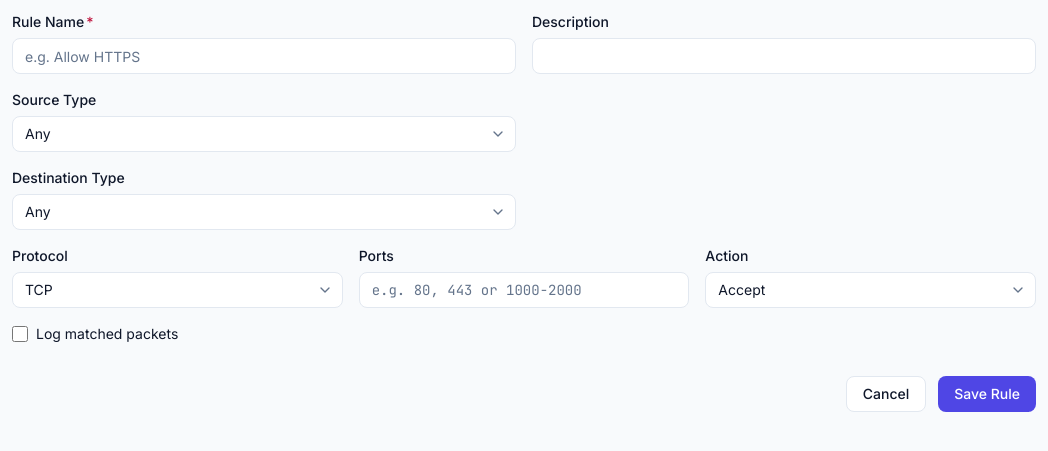
Test case: Forms — react-hook-form + zod validation › FirewallRuleForm blocks submit and shows an error for an invalid source IP
Type "Block SMB" into the field labelled "Rule Name". click: point(264, 56)
box: [12,38,516,74]
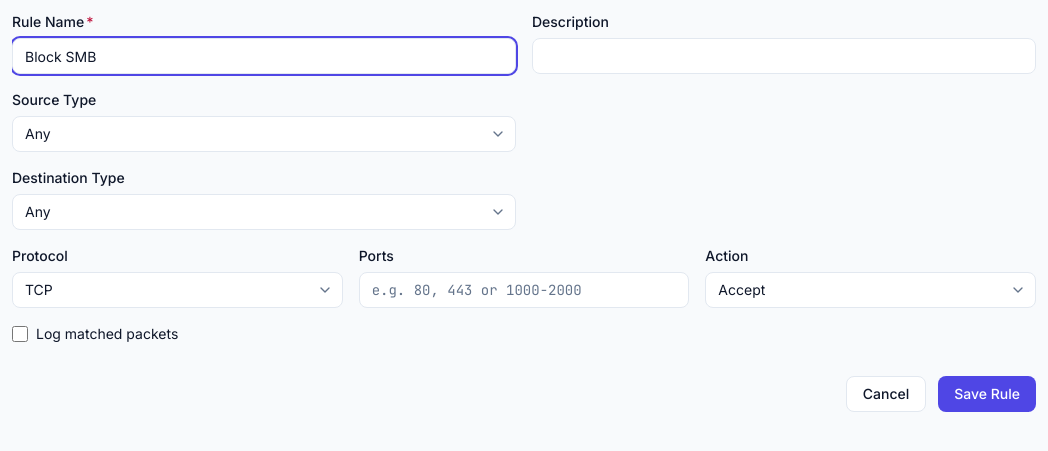
Select "IP Address" in the dropdown labelled "Source Type". click: point(264, 134)
box: [12,116,516,152]
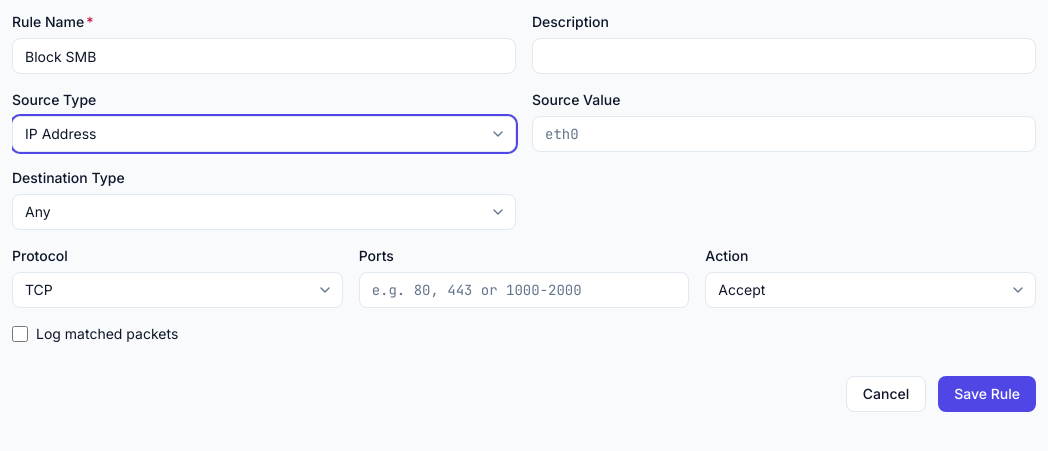
Type "not-an-ip" into the field labelled "Source Value". click: point(784, 134)
box: [532,116,1036,152]
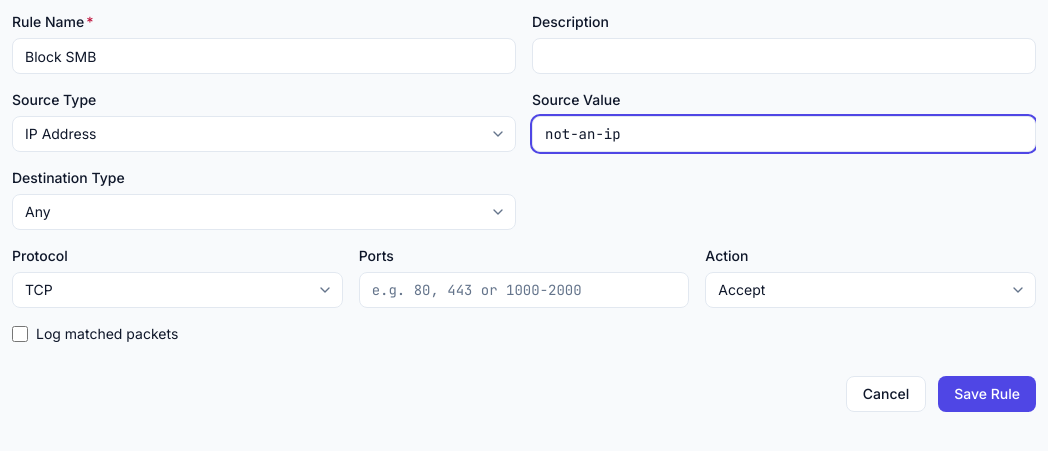
Click the button "Save Rule". click: point(987, 394)
box: [938,376,1036,412]
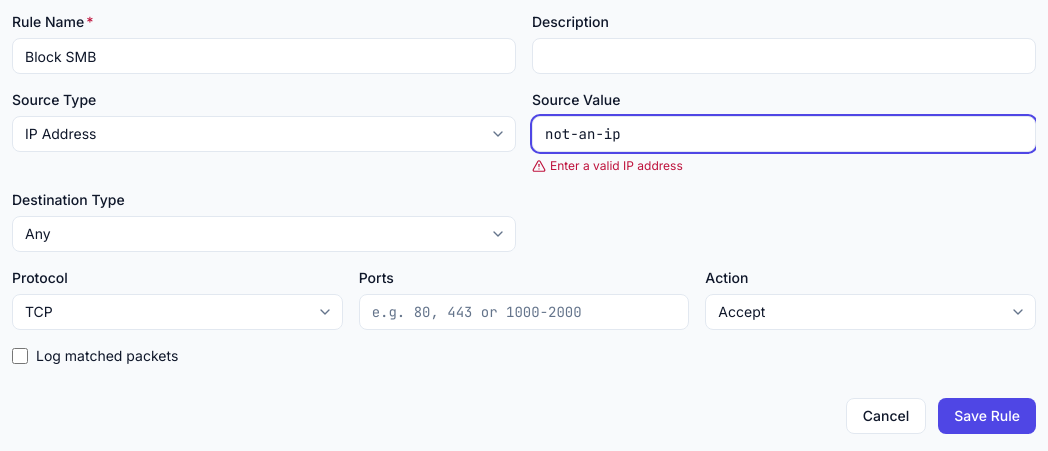
Check: the text "Enter a valid IP address" is shown, box [532,158,683,173]
